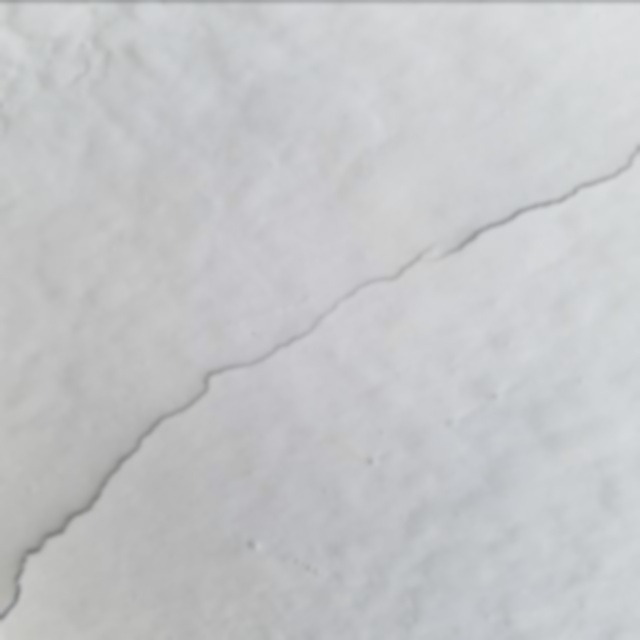SurfaceCrack: (1, 45, 640, 638)
